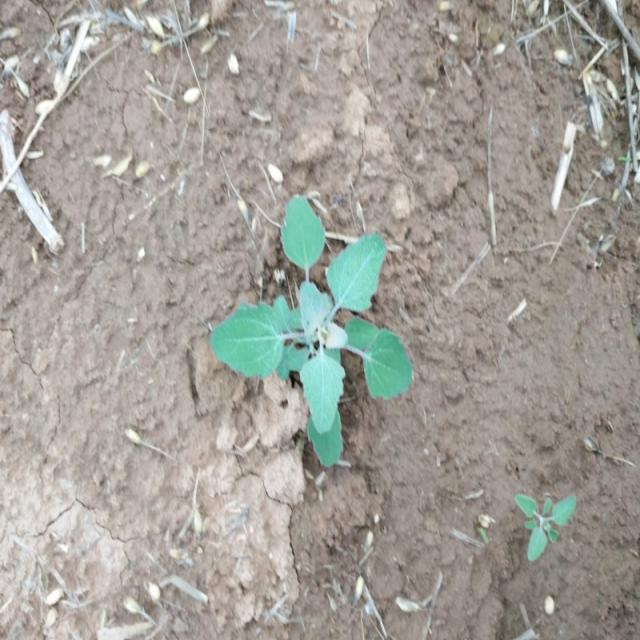goosefoots: (219, 179, 417, 459)
